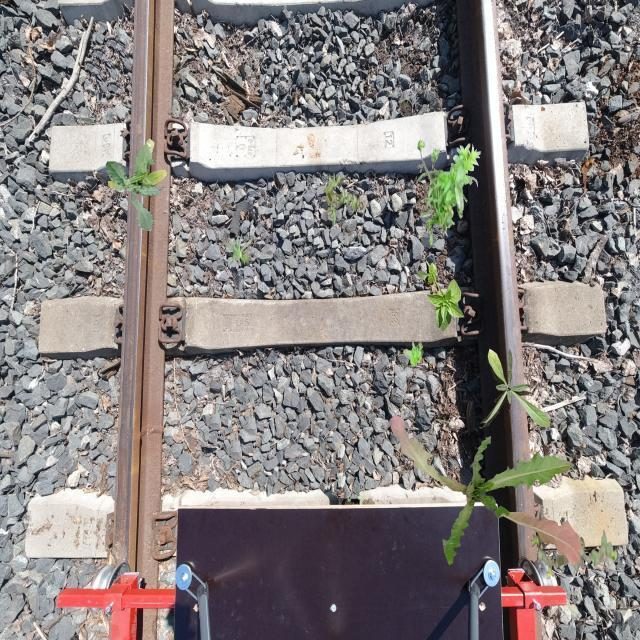Plant: (390, 415, 582, 567), (416, 138, 481, 246), (105, 138, 168, 232), (479, 348, 550, 429), (531, 528, 618, 580), (417, 261, 465, 332), (322, 173, 364, 227), (221, 232, 254, 266), (403, 342, 424, 367)
